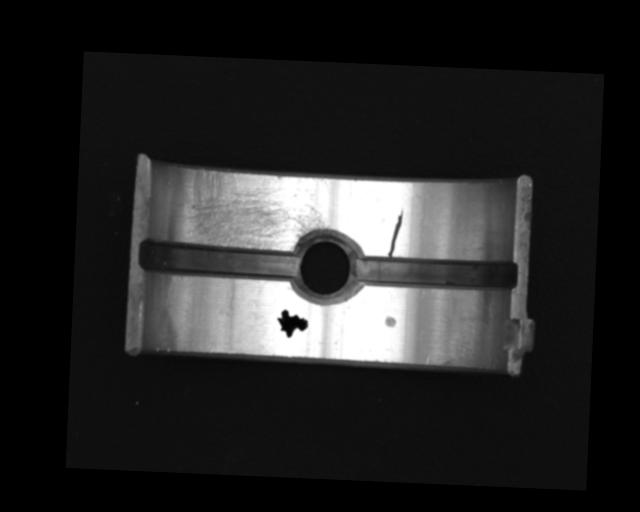blot: (275, 309, 309, 339)
bruise: (383, 315, 397, 328)
gap: (352, 251, 519, 293), (138, 239, 301, 281)
hole: (290, 228, 361, 306)
nick: (387, 207, 405, 258)
scratch: (176, 167, 328, 254)
